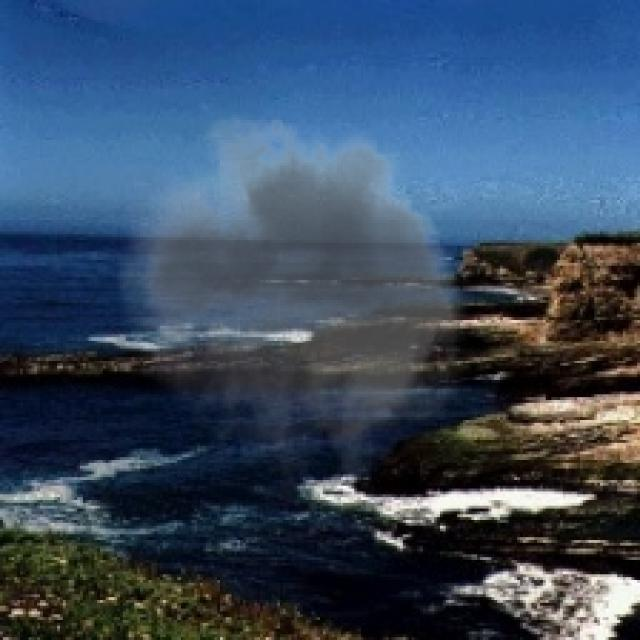smoke: (117, 97, 480, 486)
